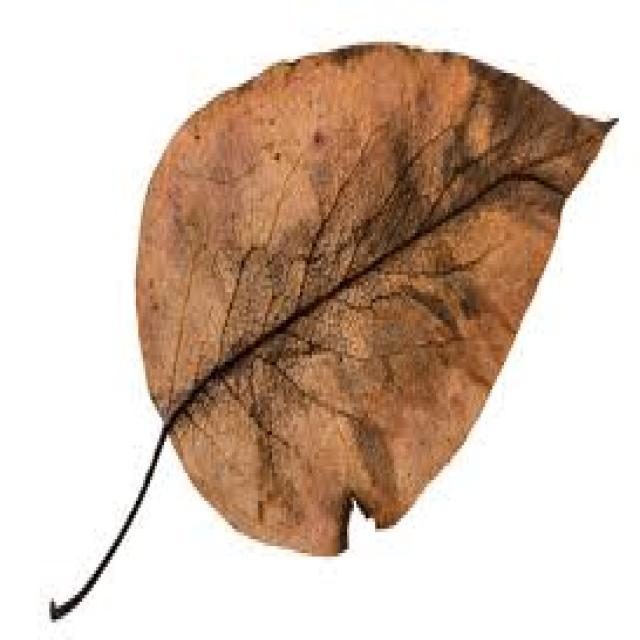leaf: (47, 39, 619, 619)
